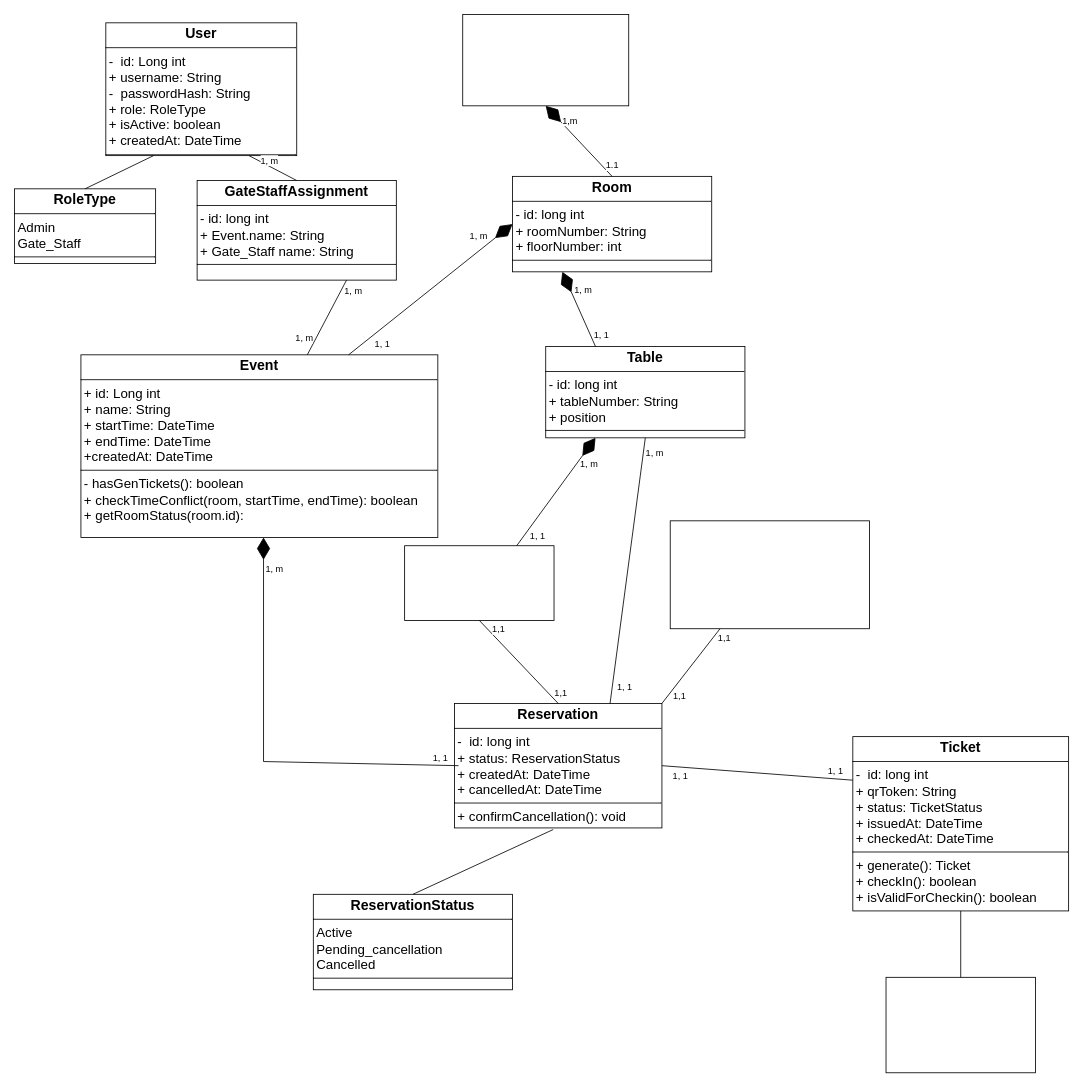
The diagram is 1083 pixels wide and 1087 high, and some of its shapes have lost their labels. Here are the shapes that lost their labels. From the top down, the box of each, then its label:
(462, 14, 629, 106): Building - id: Long int + name: String + address: String
(404, 545, 554, 620): Chair - id: long int + chairNumber: String
(669, 520, 869, 629): Invitee - id: long int + name: String + email: String + phone: String
(885, 976, 1035, 1073): TicketStatus Issued Checked_In Cancelled
